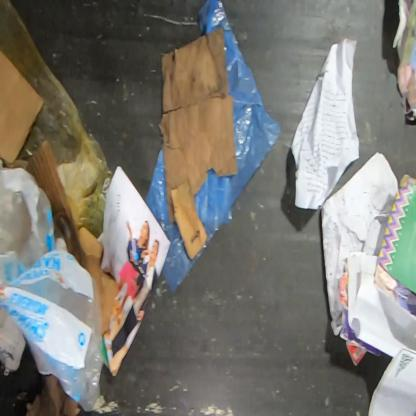cardboard: (24, 140, 119, 336), (0, 50, 44, 166), (170, 179, 209, 260), (24, 374, 82, 416)
soft_plastic: (145, 0, 281, 293), (0, 159, 119, 414), (0, 0, 114, 240)
